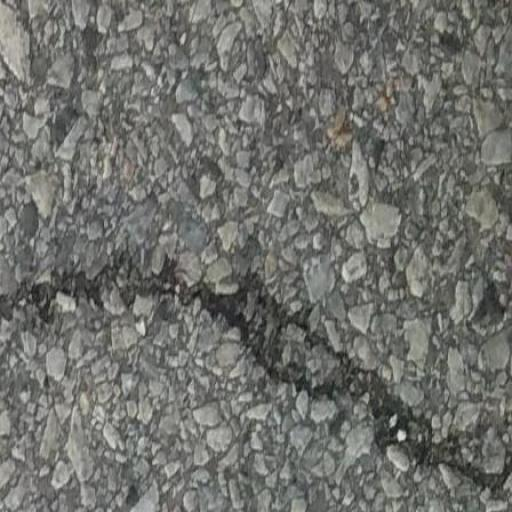spalling: (2, 254, 505, 495)
